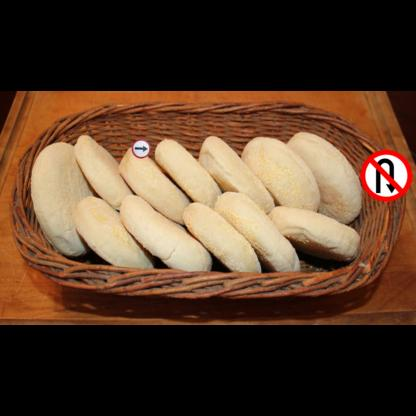R-24a: (132, 139, 150, 158)
